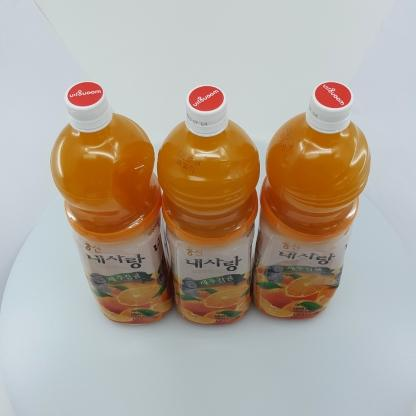----------1-5L: (50, 81, 174, 325), (253, 81, 370, 319), (156, 85, 260, 325)
